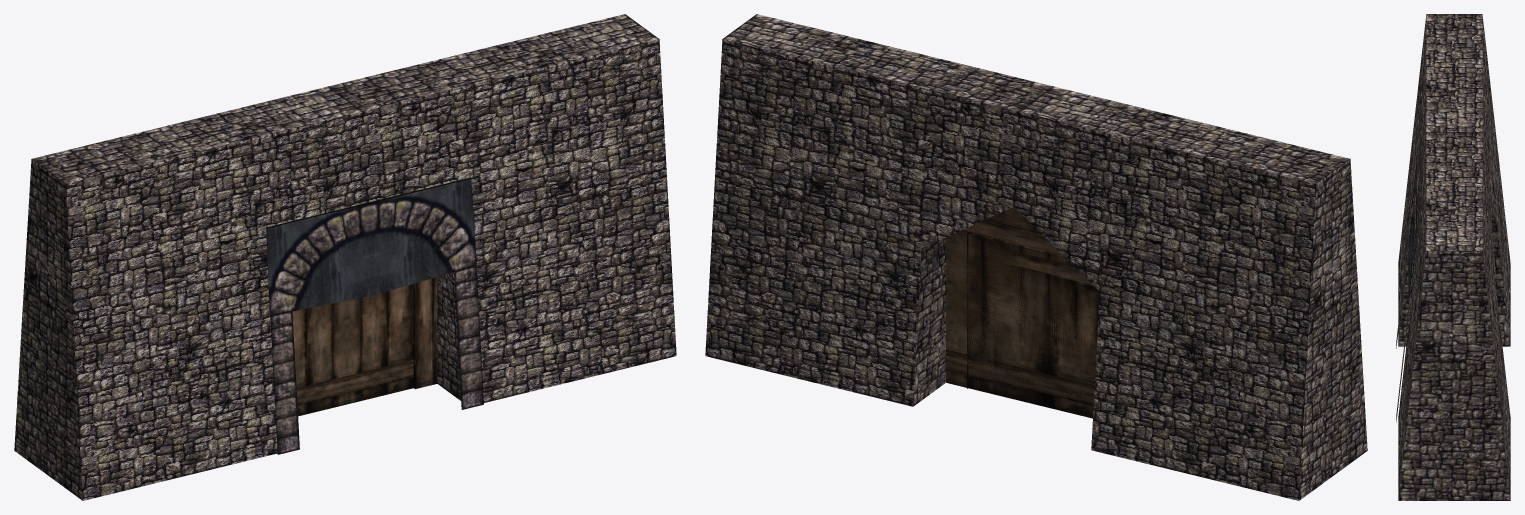
The model's file is pir_m_bld_frt_innerWall_gate.fbx.
3 renders of one model, left to right at view 1: azimuth 30°, elevation 25°; view 2: azimuth 150°, elevation 25°; view 3: azimuth 270°, elevation 25°, orthographic. The views are drawn at different scales.
Parts seen in each view (by area): view 1: wall_01.001, arch_piece_0, arch_piece_2, door_right, door_left, arch_piece_4, arch_piece_5, door_frame_01, wall_02; view 2: wall_01.001, door_hole, door_left, door_right, wall_02; view 3: wall_01.001, wall_02, arch_piece_2, arch_piece_0, arch_piece_4, arch_piece_5.
Part boxes in pixels (x1,y1,x2,y2): wall_01.001: [14, 14, 676, 500]; arch_piece_0: [368, 177, 476, 294]; arch_piece_2: [266, 202, 373, 315]; door_right: [347, 284, 413, 404]; door_left: [292, 300, 346, 416]; arch_piece_4: [454, 265, 483, 409]; arch_piece_5: [270, 310, 299, 454]; door_frame_01: [413, 277, 437, 389]; wall_02: [437, 272, 460, 400]; wall_01.001: [705, 14, 1367, 500]; door_hole: [946, 213, 1096, 418]; door_left: [1035, 250, 1099, 378]; door_right: [968, 242, 1034, 400]; wall_02: [913, 237, 945, 406]; wall_01.001: [1398, 14, 1510, 500]; wall_02: [1398, 208, 1510, 346]; arch_piece_2: [1408, 163, 1416, 274]; arch_piece_0: [1408, 204, 1416, 312]; arch_piece_4: [1396, 307, 1408, 422]; arch_piece_5: [1396, 234, 1408, 348].
Size of the model in its own units: 10000 by 4907 by 2034.
Materials: 3 (3 with a texture image).
